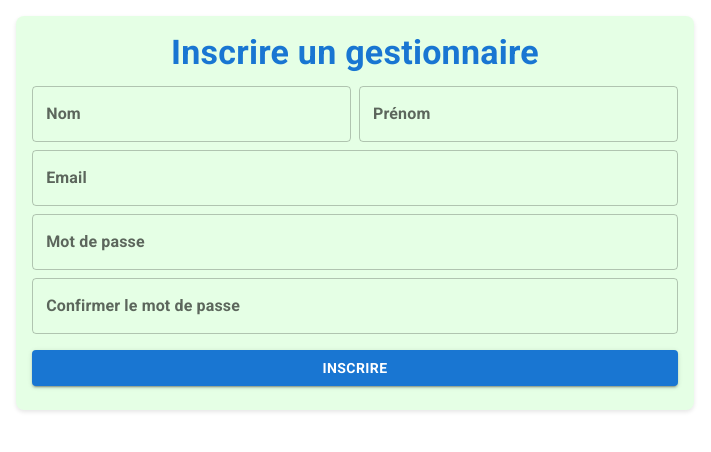
Scenario: ManagerRegisterPage › displays error when passwords do not match
Fill in form with different passwords
In the field labelled "Nom": x=192, y=114 [32,86,351,142], type "Doe"
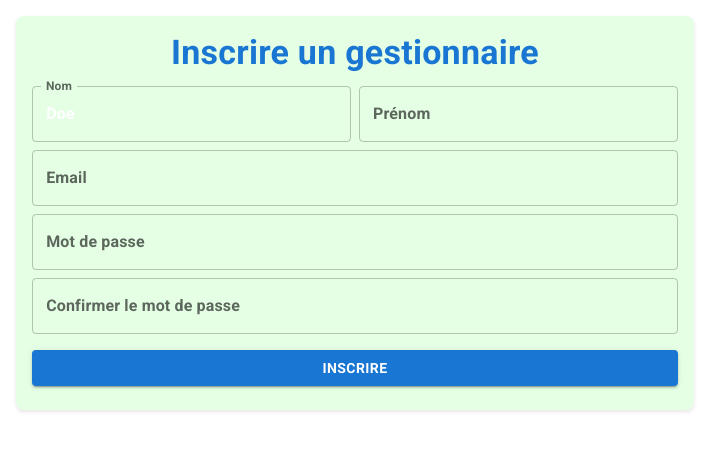
In the field labelled "Prénom": x=518, y=114 [359,86,678,142], type "John"
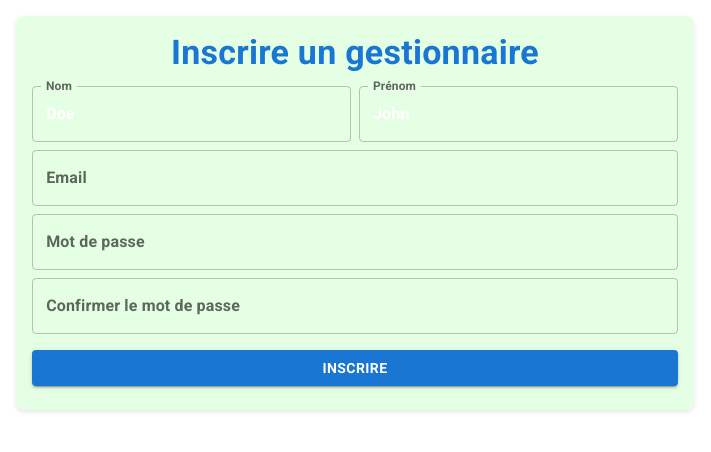
In the field labelled "Email": x=355, y=178 [32,150,678,206], type "manager@example.com"
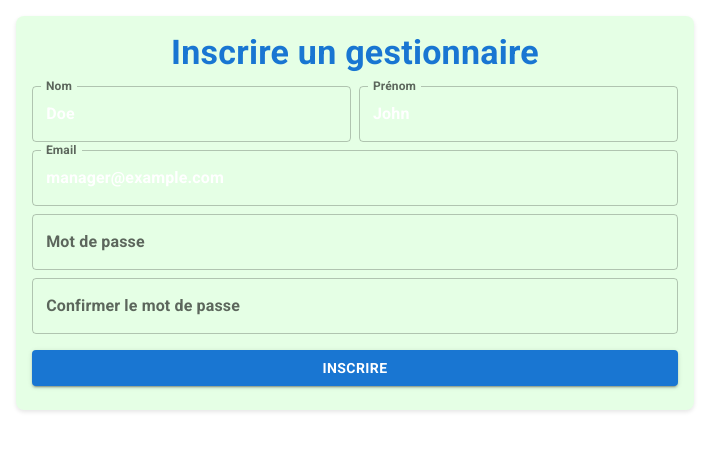
In the password field labelled "Mot de passe": x=355, y=242 [32,214,678,270], type "Password123!"
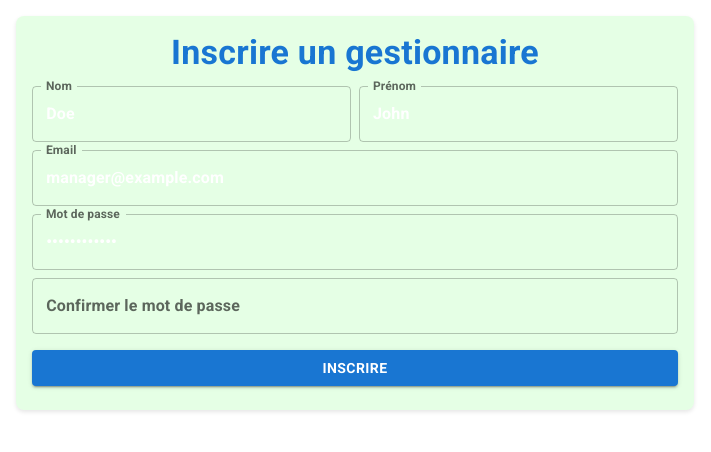
In the password field labelled "Confirmer le mot de passe": x=355, y=306 [32,278,678,334], type "DifferentPassword123!"
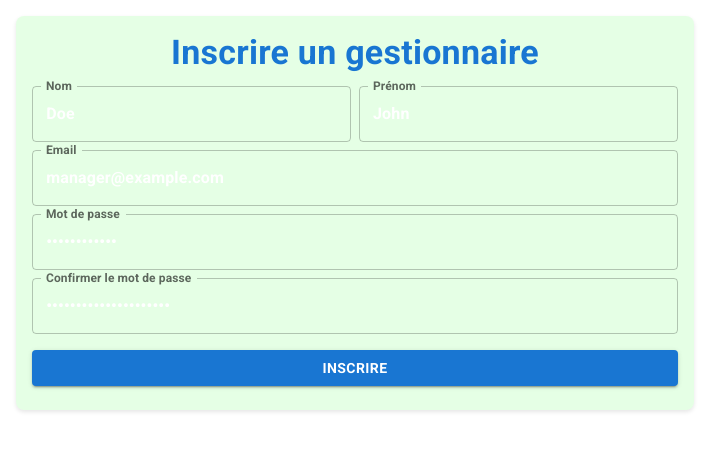
Submit the form
Click the button with test id "submit-button": x=355, y=368 [32,350,678,386]
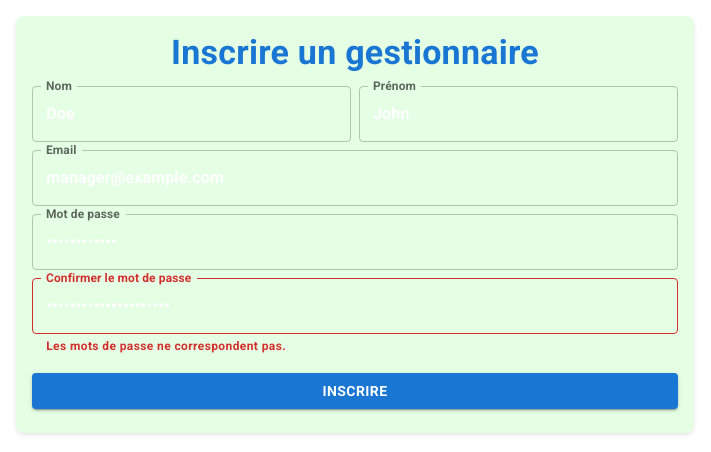
Expected: the text "Les mots de passe ne correspondent pas." is shown, [46,339,286,353]
